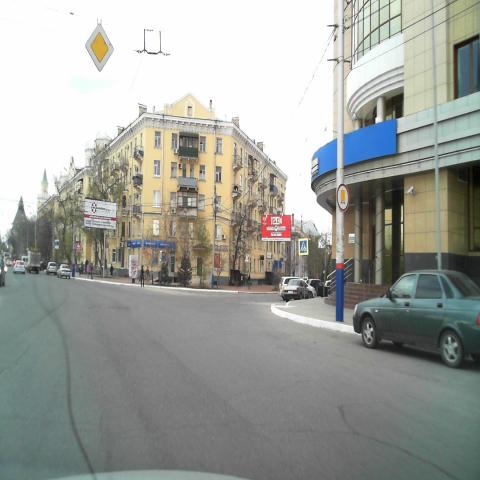3_32: (336, 184, 348, 213)
